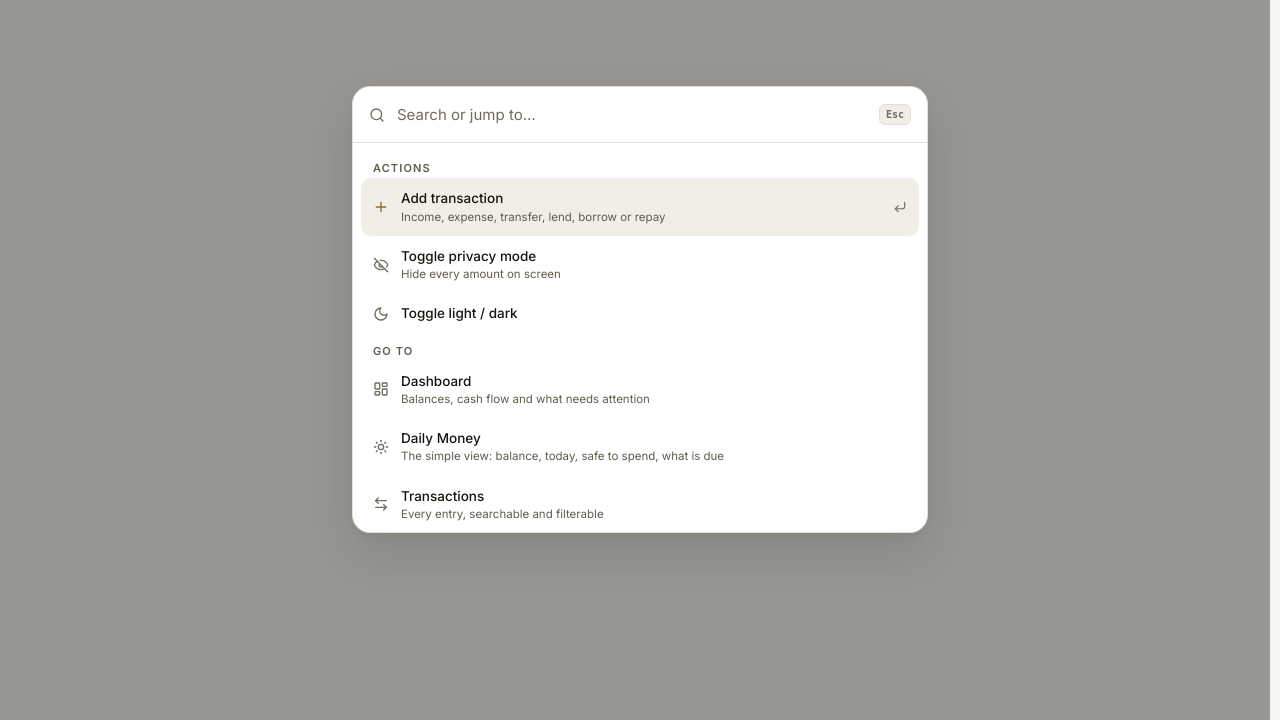
Test: <CommandPalette> global search › searches transactions and people once the query reaches 2 characters, debounced
Type "ra" into the dropdown named "Search commands".
click(632, 115); type("ra")  # box [397, 87, 867, 142]
(page scrolled)
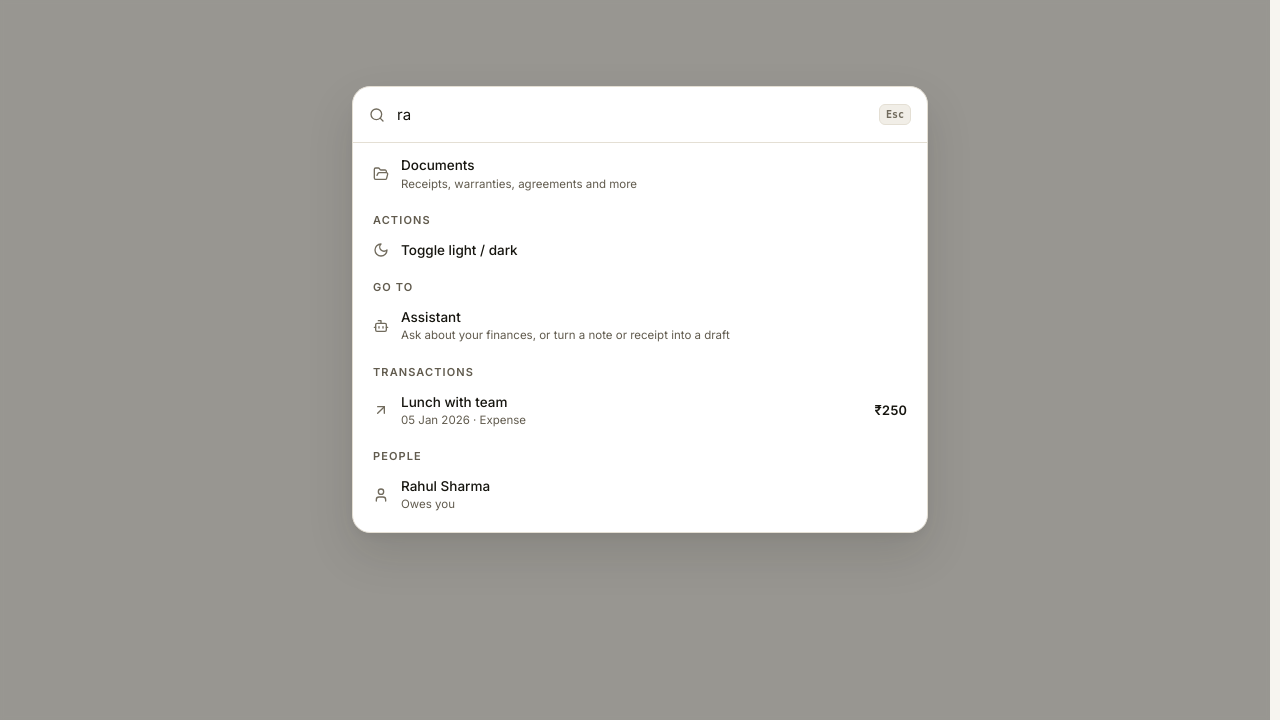
Expected: the text "Lunch with team" is shown, [401, 394, 508, 410]
Expected: the text "Rahul Sharma" is shown, [401, 478, 490, 494]
